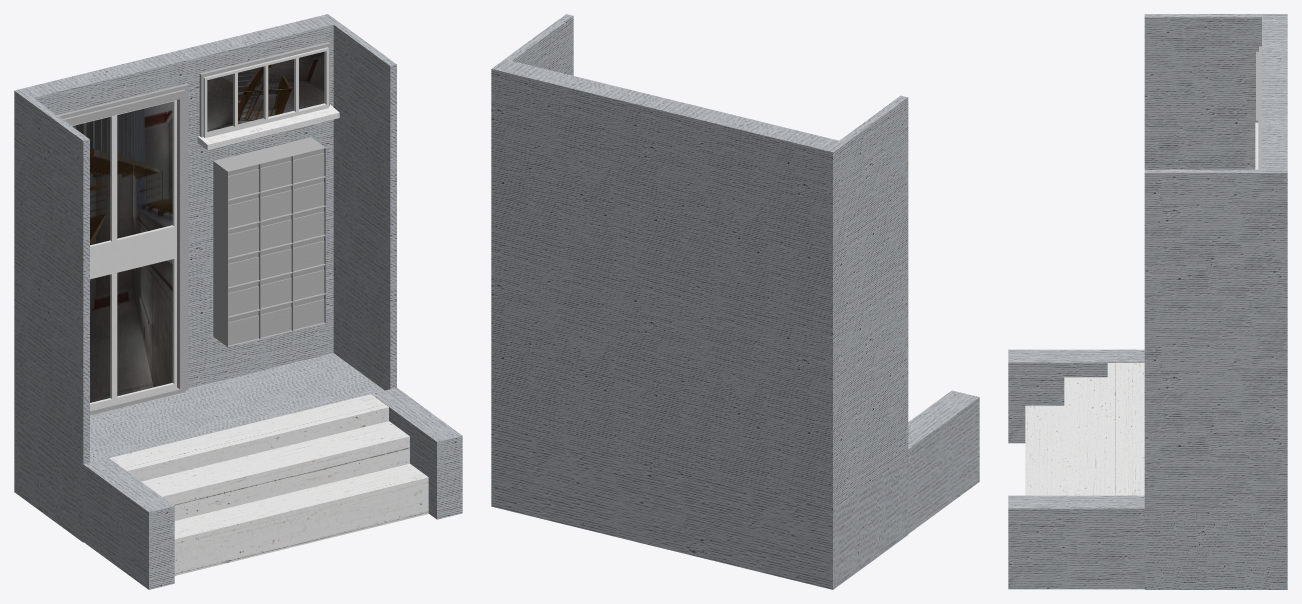
Rendered from 60iesBlock MainDoor.glb.
3 views of the same model, side by side, from view 1: azimuth 30°, elevation 25°; view 2: azimuth 150°, elevation 25°; view 3: azimuth 270°, elevation 25° (orthographic). The views are drawn at different scales.
Parts seen in each view (by area): view 1: Cube.006, Cube.011, Cube.005, Cube.010, Cube.024, Cube.007, Cube.012, Cube.014, Cube.008; view 2: Cube.006, Cube.024, Cube.007; view 3: Cube.006, Cube.011, Cube.014, Cube.024, Cube.007, Cube.005.
Boxes of the visible parts, x1,y1,x2,y2 form: Cube.006: (14,14,396,468); Cube.011: (109,394,428,575); Cube.005: (57,83,188,415); Cube.010: (213,137,325,347); Cube.024: (14,353,384,542); Cube.007: (83,458,174,589); Cube.012: (199,42,329,137); Cube.014: (371,387,462,519); Cube.008: (197,104,339,149); Cube.006: (491,14,908,509); Cube.024: (491,427,908,589); Cube.007: (908,390,979,533); Cube.006: (1144,14,1287,513); Cube.011: (1025,363,1144,495); Cube.014: (1008,495,1144,589); Cube.024: (1144,514,1287,589); Cube.007: (1008,349,1144,443); Cube.005: (1256,46,1261,122).
Bounding box in the file's own units: 6.65 × 8.14 × 4.94.
6 materials, 6 textured.
